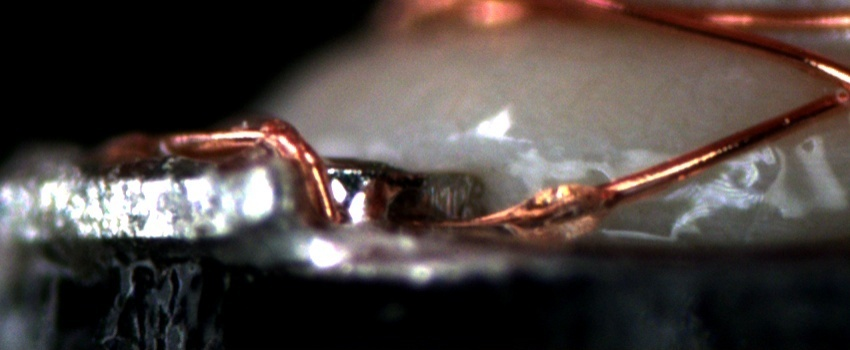TE: (159, 107, 356, 232)
